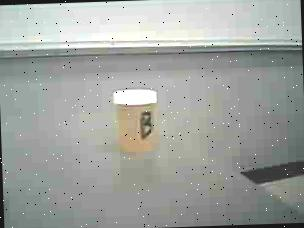Bottle B: (106, 84, 170, 158)
